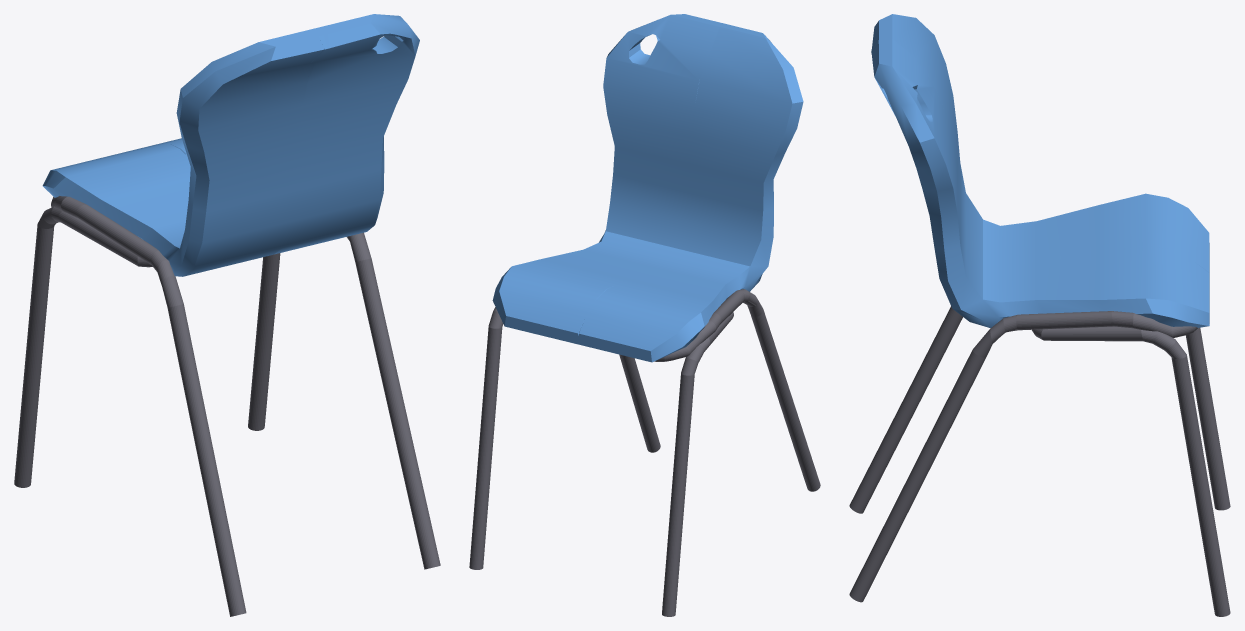
The model's file is chair.fbx.
3 renders of one model, left to right at view 1: azimuth 30°, elevation 25°; view 2: azimuth 150°, elevation 25°; view 3: azimuth 270°, elevation 25°, orthographic. The views are drawn at different scales.
Parts seen in each view (by area): view 1: ChairSeat, FirstLeg, SecondLeg; view 2: ChairSeat, SecondLeg, FirstLeg; view 3: ChairSeat, FirstLeg, SecondLeg.
Boxes of the visible parts, left/top/right/bottom form: ChairSeat: left=42, top=14, right=419, bottom=276; FirstLeg: left=51, top=196, right=440, bottom=616; SecondLeg: left=14, top=206, right=280, bottom=487; ChairSeat: left=492, top=14, right=803, bottom=362; SecondLeg: left=469, top=307, right=733, bottom=616; FirstLeg: left=619, top=289, right=820, bottom=491; ChairSeat: left=871, top=14, right=1209, bottom=327; FirstLeg: left=849, top=306, right=1197, bottom=602; SecondLeg: left=1032, top=326, right=1230, bottom=616.
Size of the model in its own units: 18.46 by 38.86 by 25.78.
